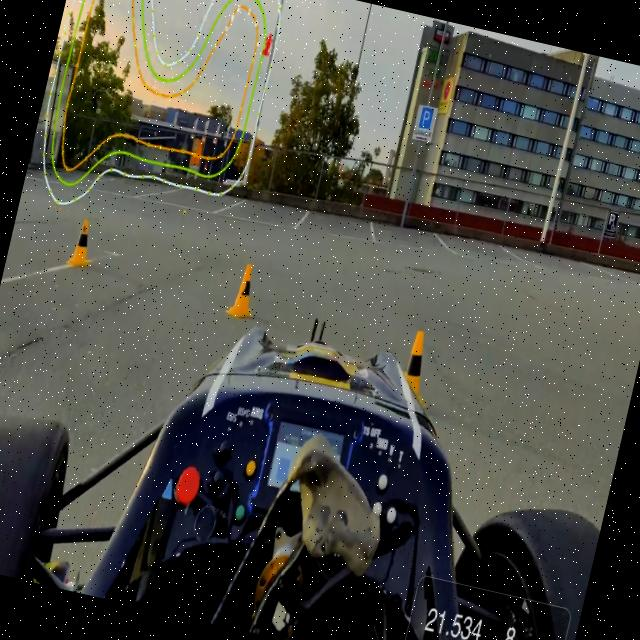yellow_cone: (214, 254, 266, 322), (393, 326, 436, 395), (64, 215, 100, 276)
